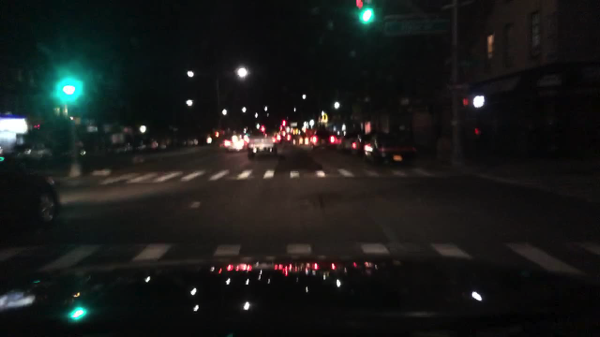car: (469, 99, 567, 161), (0, 154, 61, 236), (13, 118, 86, 170), (361, 130, 418, 166), (246, 132, 278, 158), (337, 131, 362, 154), (309, 129, 333, 150), (224, 135, 249, 153), (107, 141, 134, 155), (329, 131, 344, 151), (293, 129, 309, 145), (149, 138, 167, 151), (133, 139, 148, 153), (275, 131, 292, 143), (184, 136, 199, 147)
traffic light: (358, 2, 376, 23), (464, 93, 486, 108), (61, 83, 77, 98)
traffic sign: (381, 14, 452, 38), (455, 57, 479, 68), (446, 81, 470, 91), (290, 121, 297, 128)
